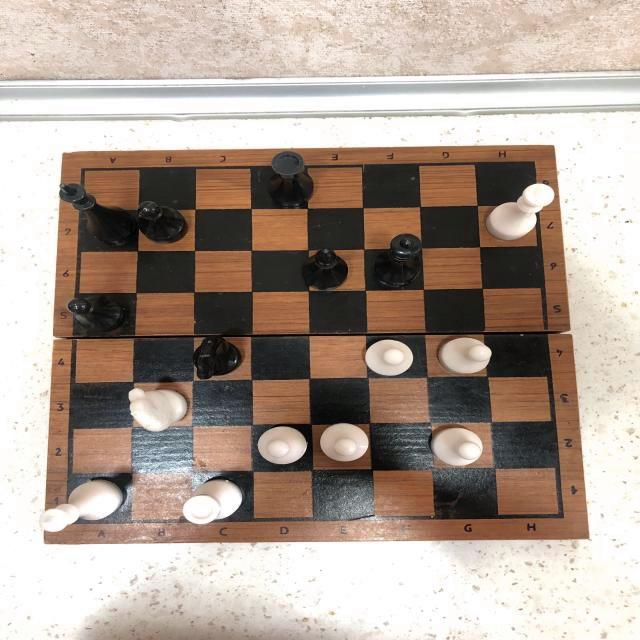chess-table-corners: (542, 499, 575, 527), (70, 160, 99, 182), (520, 154, 546, 174)
